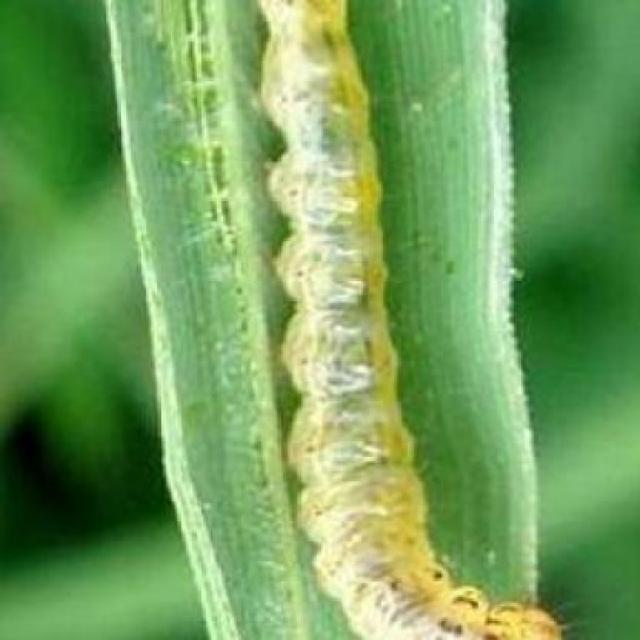leaf-folder: (217, 37, 634, 640)
